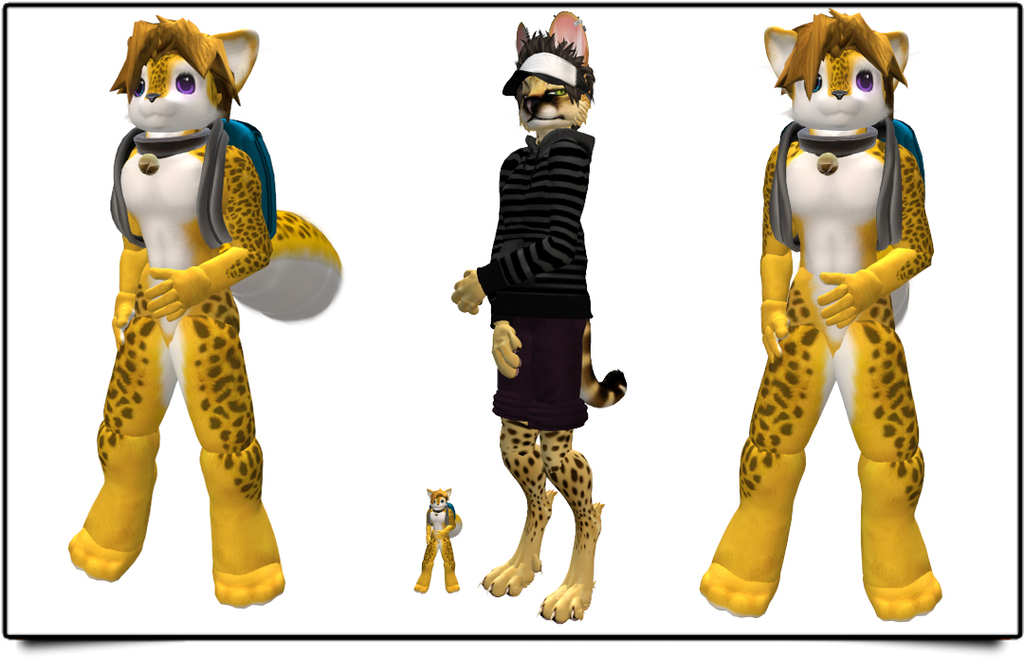face: (518, 65, 580, 127)
